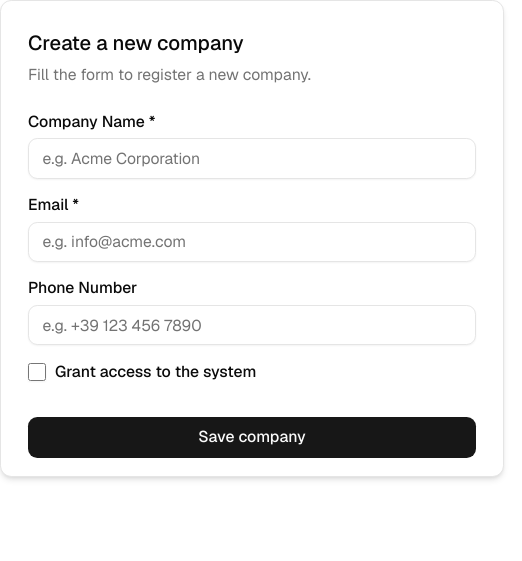
Scenario: CompanyForm › should clear validation errors when user types
Step 1. Click the button "Save company" → [252, 438], box [28, 417, 476, 458]
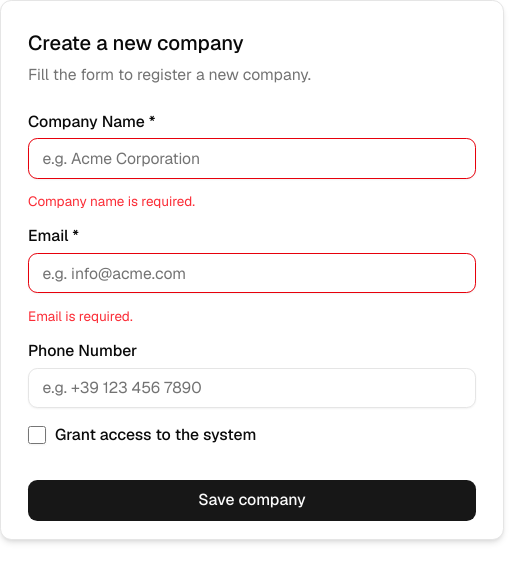
Expected: the text "Company name is required." is shown, [28, 192, 195, 210]
Step 2. Type "Test" into the field labelled "Company Name *" → [252, 159], box [28, 138, 476, 179]
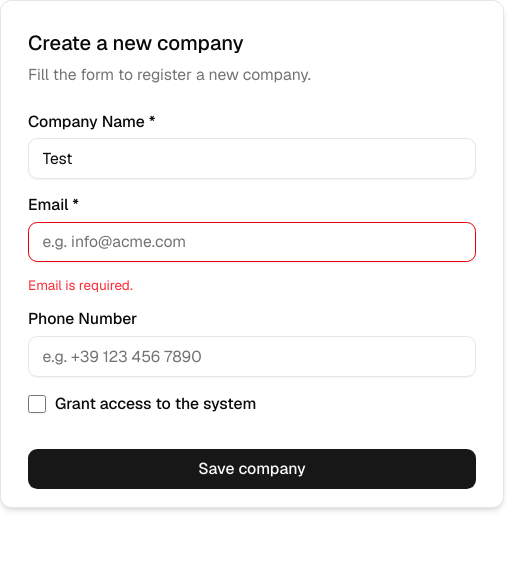
Expected: the text "Company name is required." is gone
